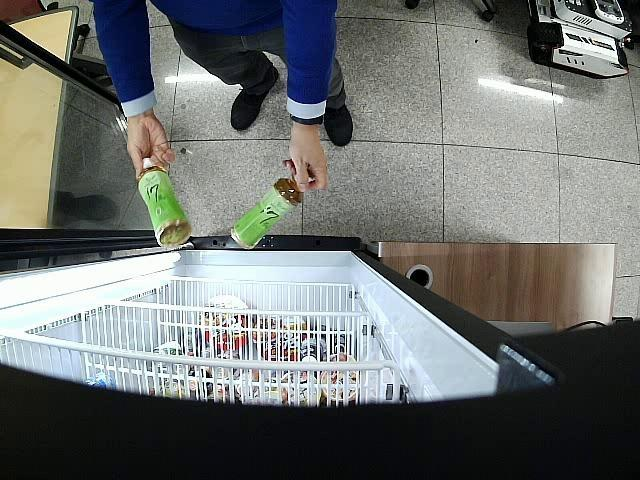19_17cha: (230, 174, 314, 250), (136, 158, 192, 248)
